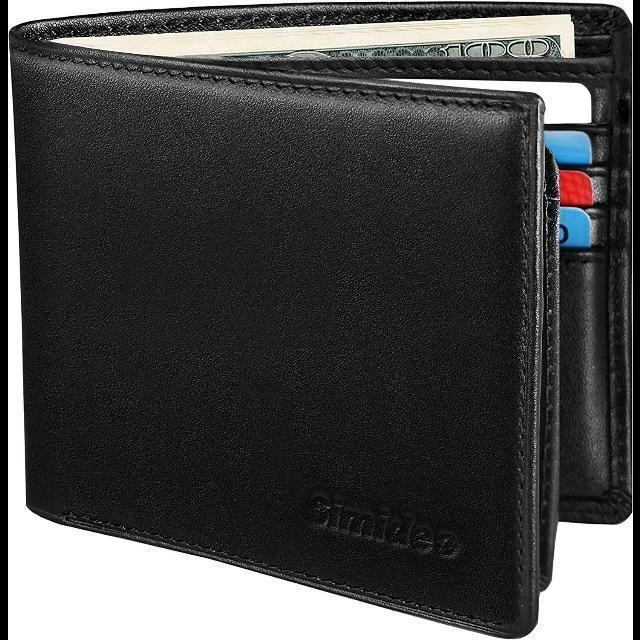wallet: (6, 0, 632, 640)
